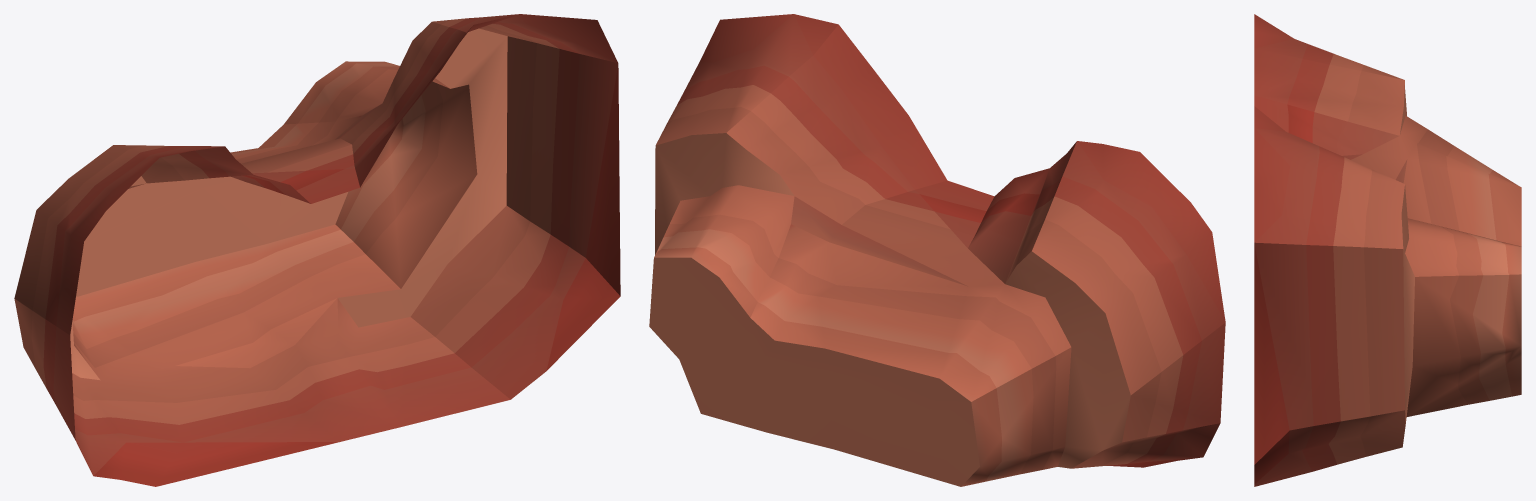
The model's file is desert-big-cliff.obj.
The picture shows the model from 3 angles, left to right: view 1: azimuth 30°, elevation 25°; view 2: azimuth 150°, elevation 25°; view 3: azimuth 270°, elevation 25°; orthographic projection. The views are drawn at different scales.
Visible parts, largest first — view 1: desert-big-cliff; view 2: desert-big-cliff; view 3: desert-big-cliff.
Part boxes in pixels (box(x1,y1,x2,y2)): desert-big-cliff: box(14, 14, 620, 486); desert-big-cliff: box(649, 14, 1225, 486); desert-big-cliff: box(1254, 14, 1521, 486).
Size of the model in its own units: 4335 by 2894 by 1924.
1 material, 1 textured.
